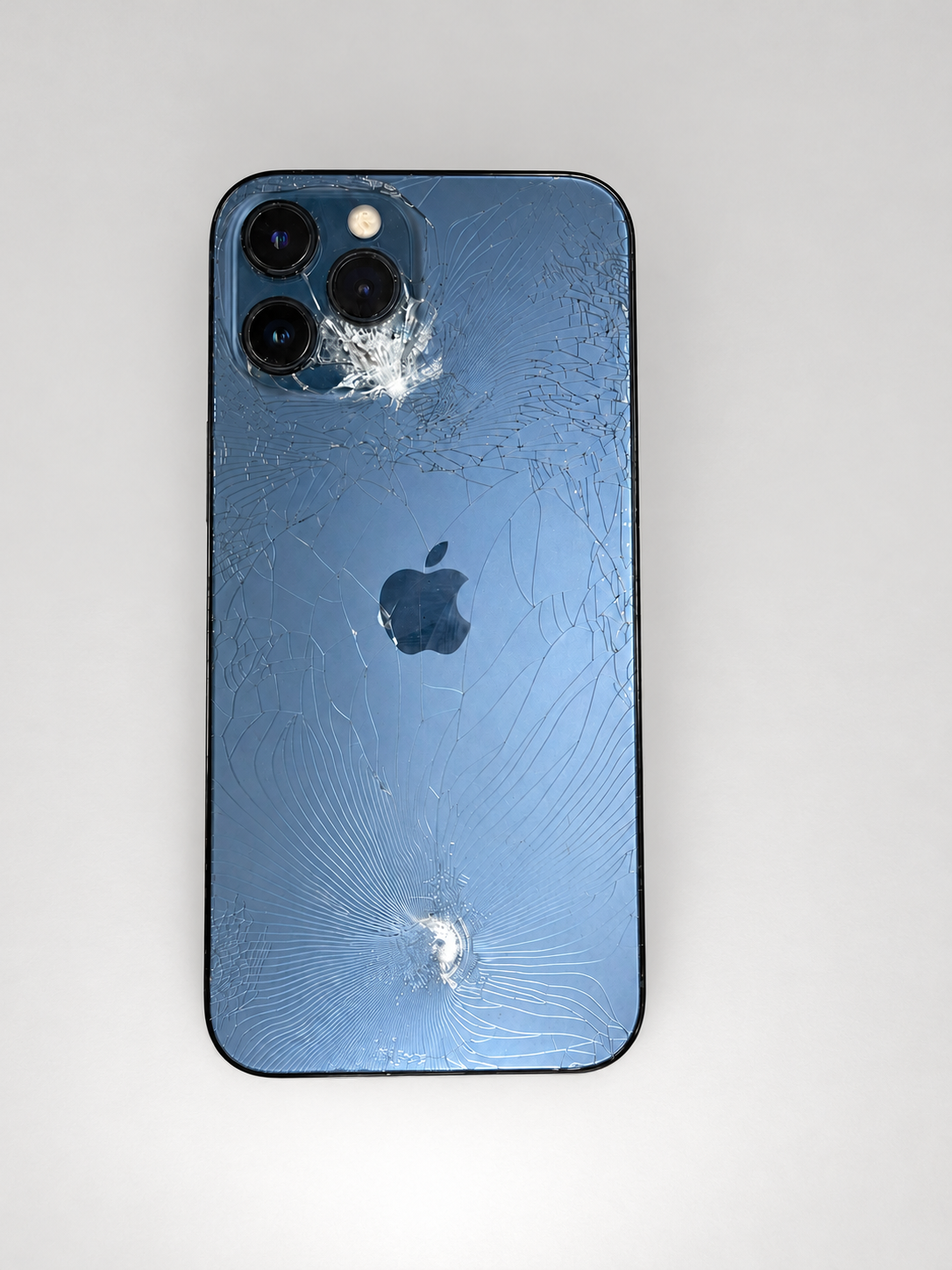iphone_12_pro_max_Crack: (167, 117, 750, 1128)
